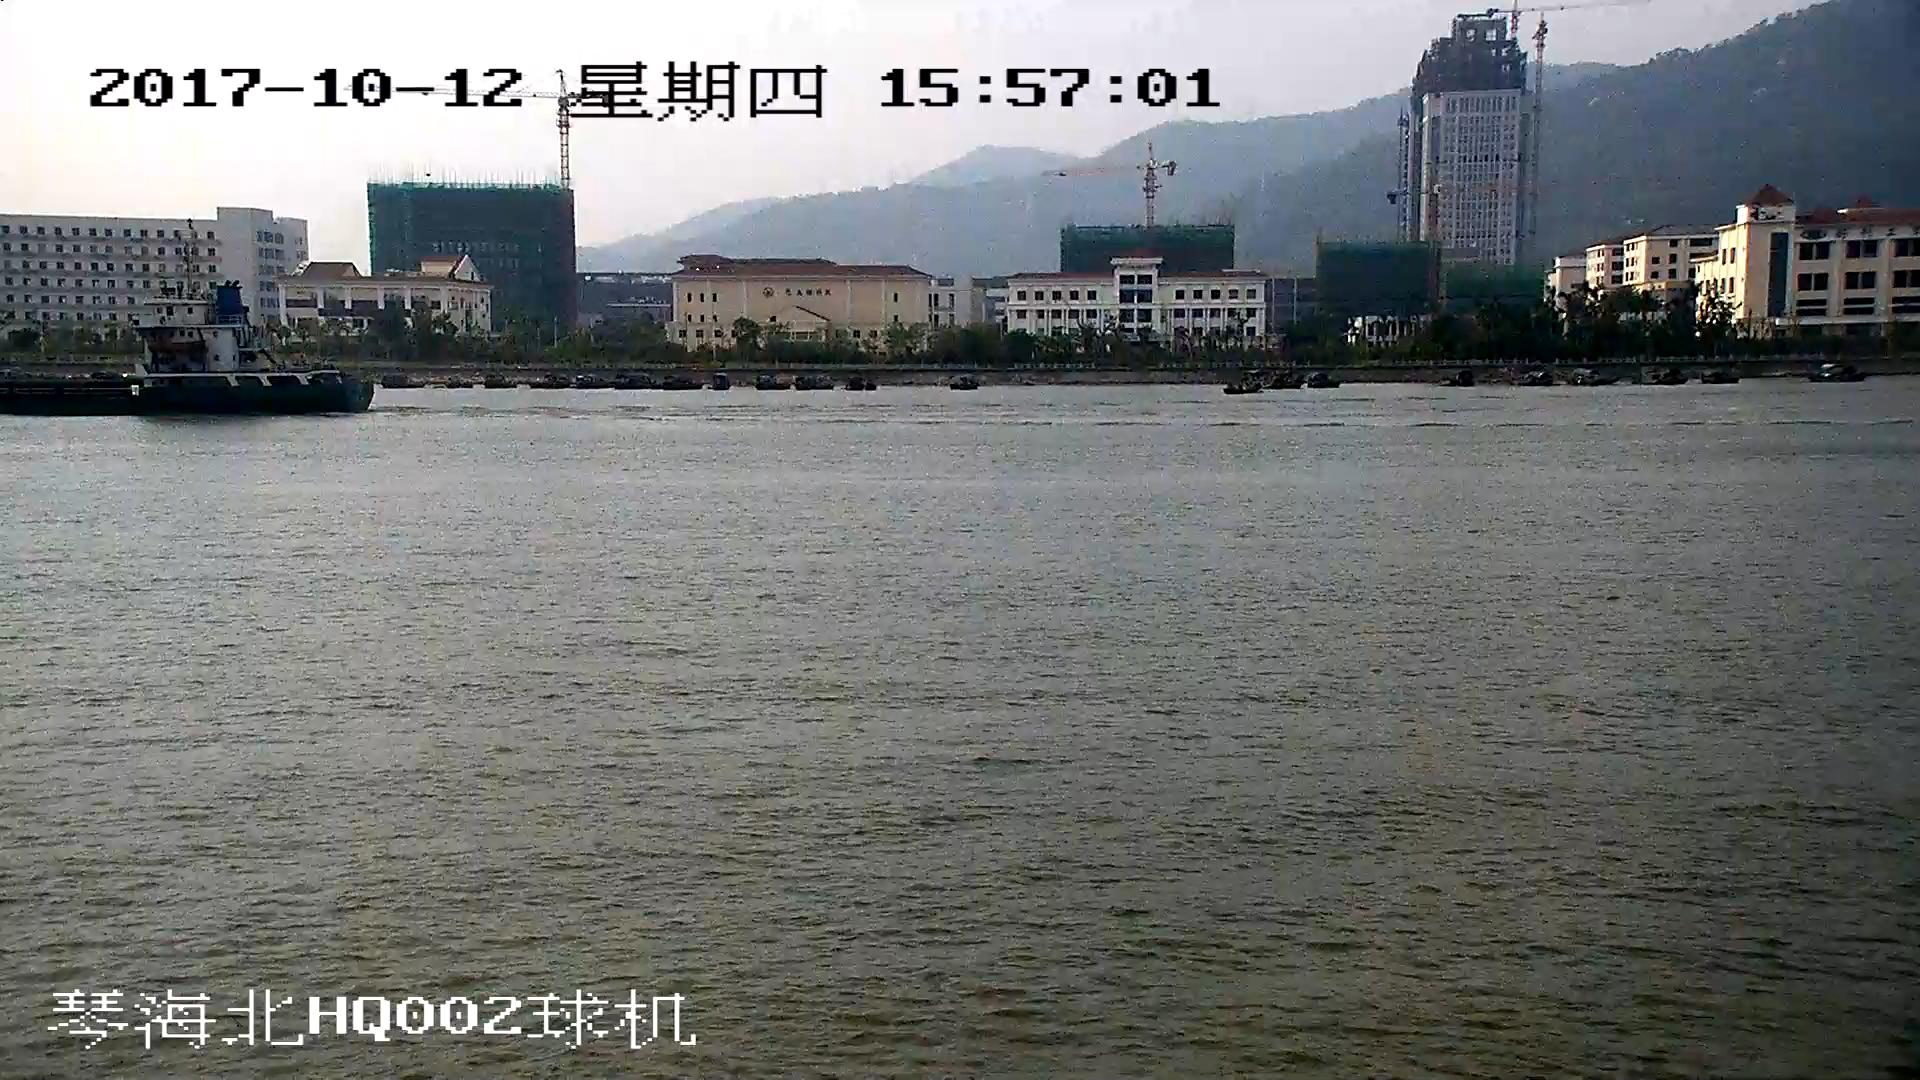general cargo ship: (1, 291, 374, 414)
